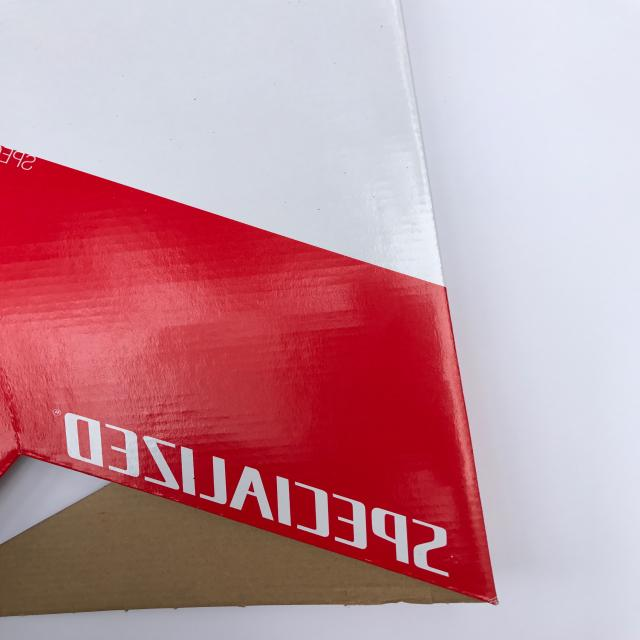cardboard: (0, 144, 499, 615)
